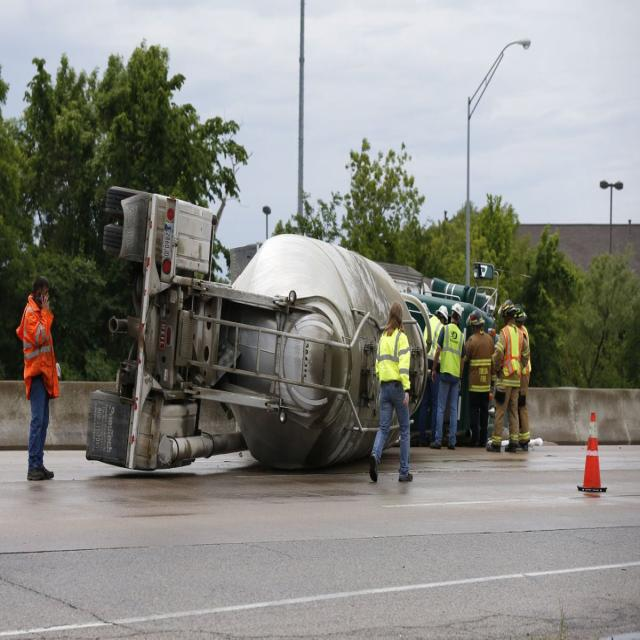Accident: (86, 182, 500, 475)
